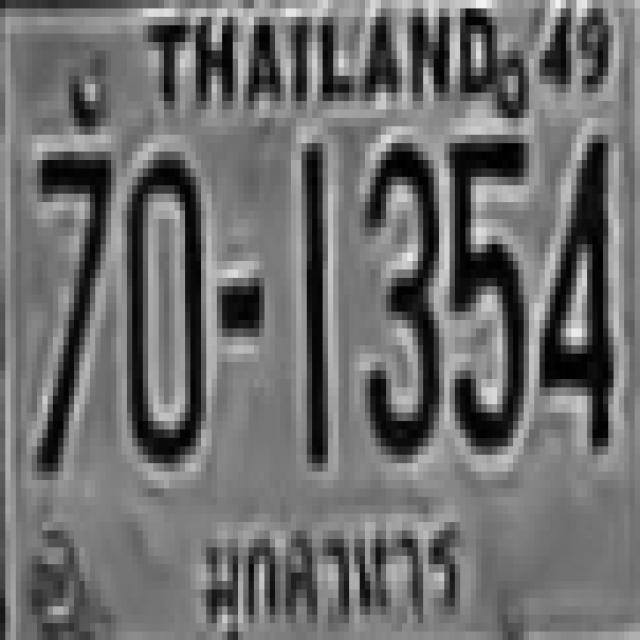0: (127, 147, 201, 459)
1: (302, 139, 322, 450)
3: (359, 139, 434, 450)
4: (534, 126, 608, 446)
5: (447, 131, 526, 442)
7: (32, 148, 111, 468)
Mukdahan: (177, 507, 488, 640)
